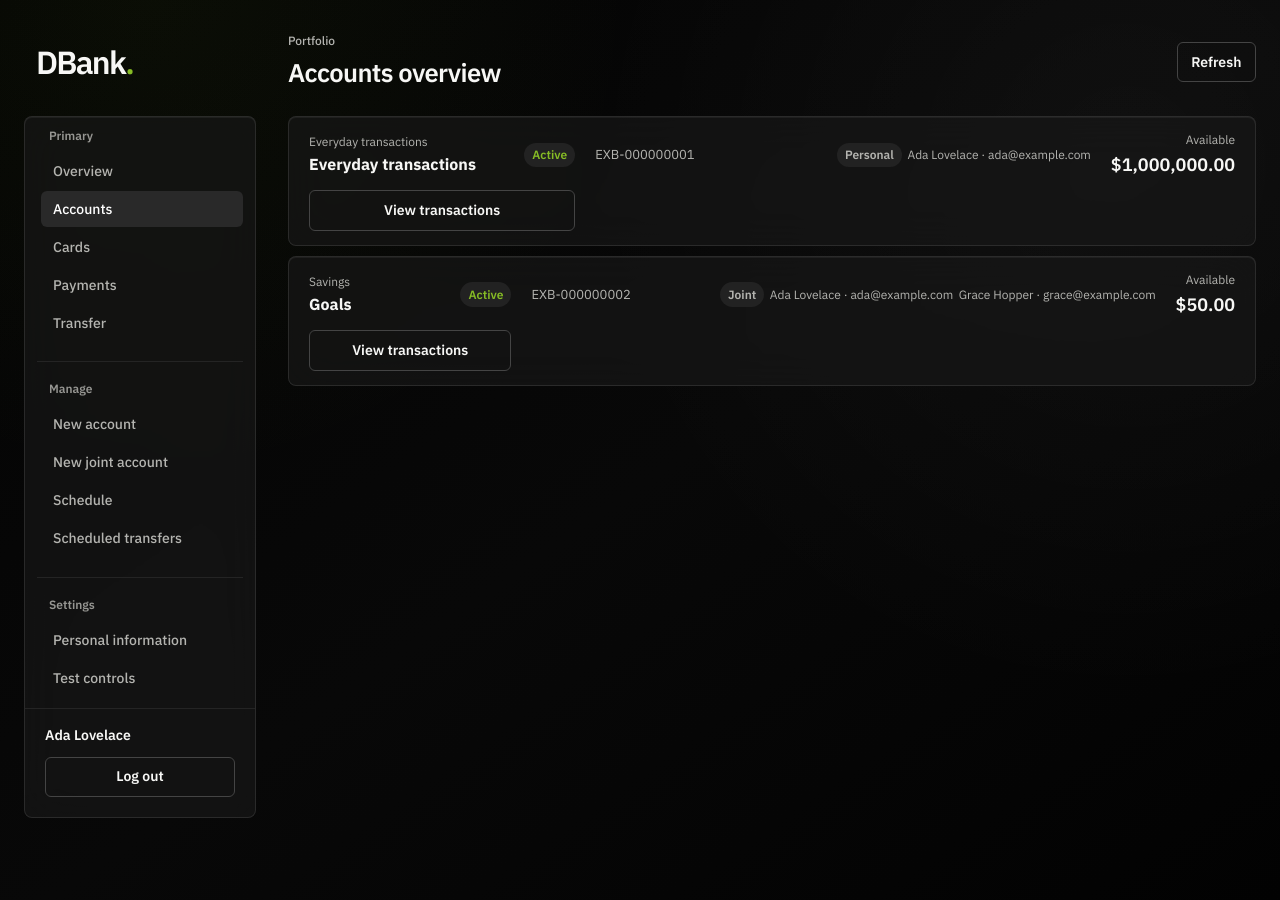
Dashboard navigation › navigates immediately when a replacement destination resamples zero
Expected: the element with test id "account-card-account-1" is shown, [288,116,1256,246]
Click the link with test id "dashboard-nav-new-account" at (95, 424), box [53,415,136,433]
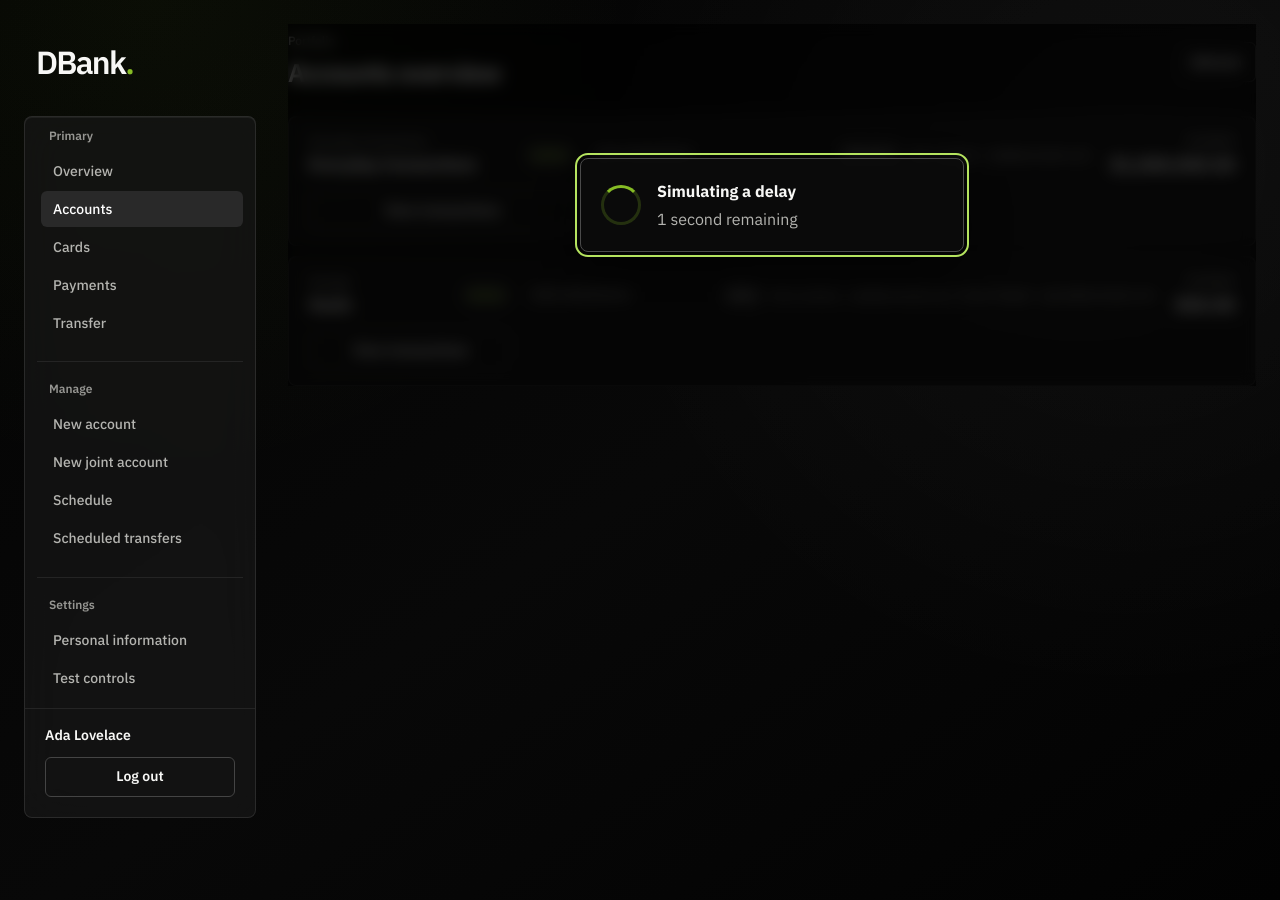
Click the link with test id "dashboard-nav-transfer" at (80, 323), box [53,314,106,332]
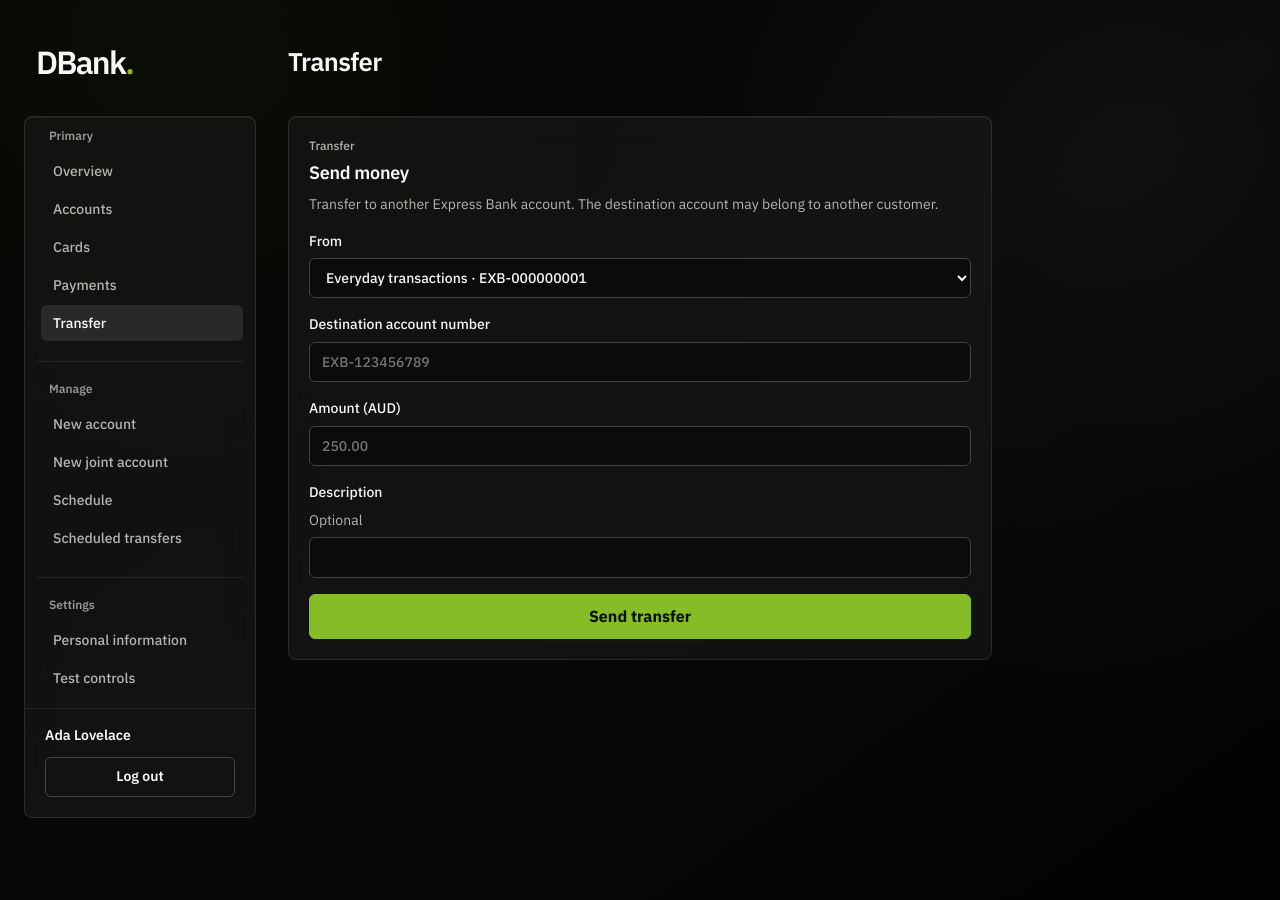
Now the element with test id "dashboard-view-transfer" is shown, box [288,45,992,660]
